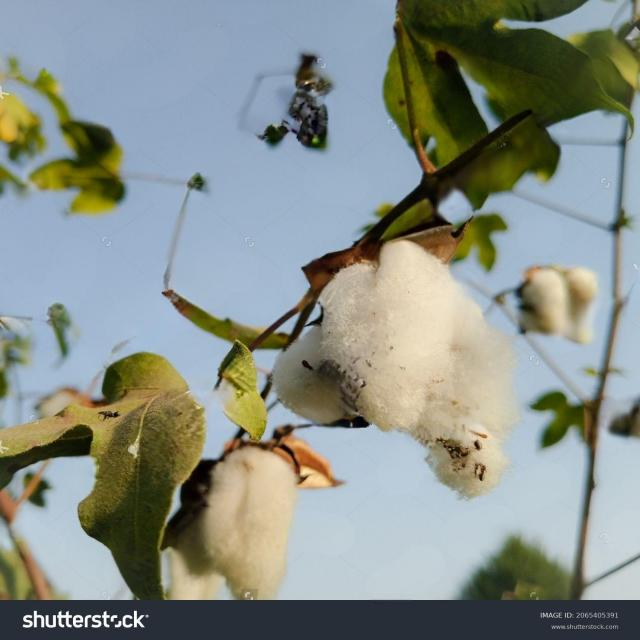Leaf: (246, 219, 529, 518), (156, 427, 316, 608)
